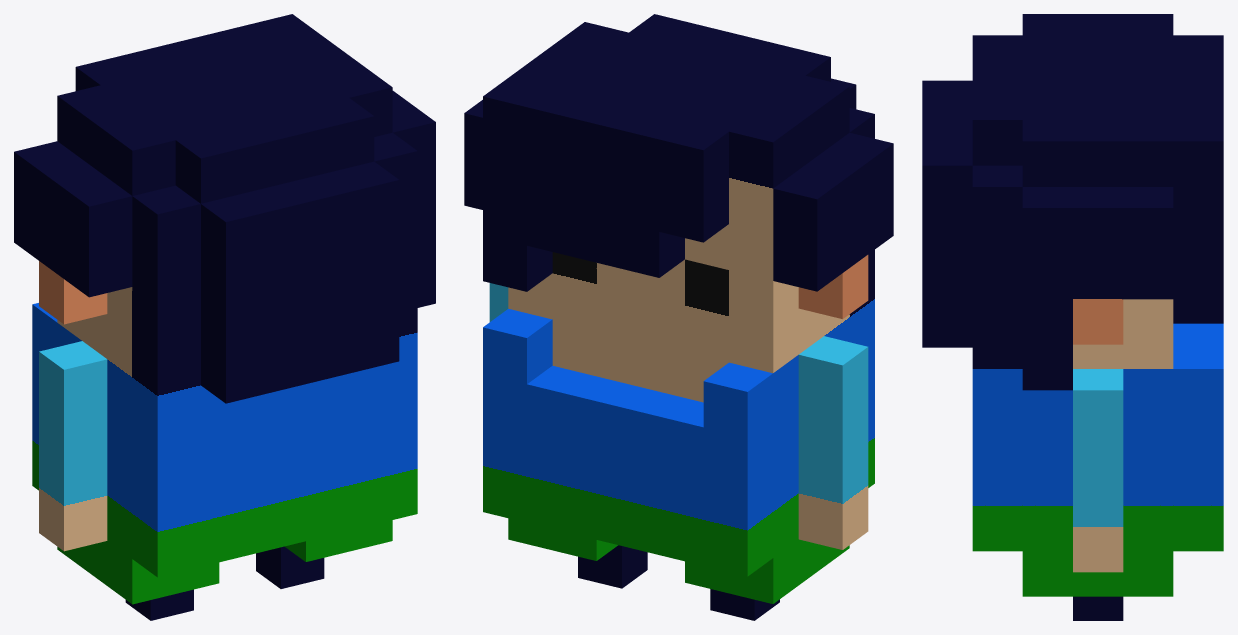
The model's file is chr_raver2.dae.
3 views of the same model, side by side, from view 1: azimuth 30°, elevation 25°; view 2: azimuth 150°, elevation 25°; view 3: azimuth 270°, elevation 25° (orthographic).
Parts seen in each view (by area): view 1: chr_raver2; view 2: chr_raver2; view 3: chr_raver2.
Part boxes in pixels (x1,y1,x2,y2): chr_raver2: (14, 14, 435, 620); chr_raver2: (464, 14, 893, 620); chr_raver2: (922, 14, 1223, 620).
Bounding box in the file's own units: 0.8 × 0.6 × 1.1.
